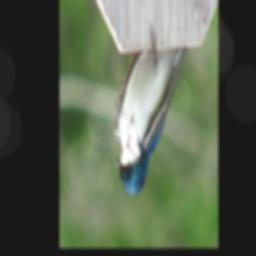Swallow: (113, 21, 189, 198)
